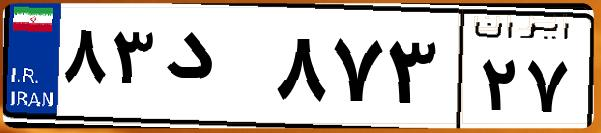2: (475, 38, 525, 113)
3: (385, 28, 445, 110), (110, 28, 158, 98)
7: (330, 28, 385, 110), (525, 38, 570, 115)
8: (270, 28, 330, 110), (57, 26, 110, 100)
د: (158, 20, 270, 120)
